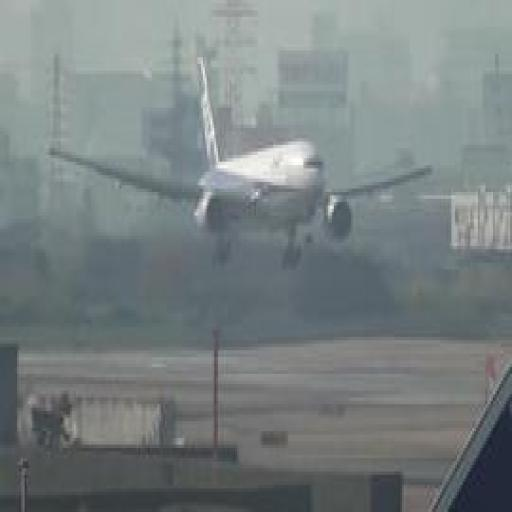aircraft: (46, 53, 433, 267)
